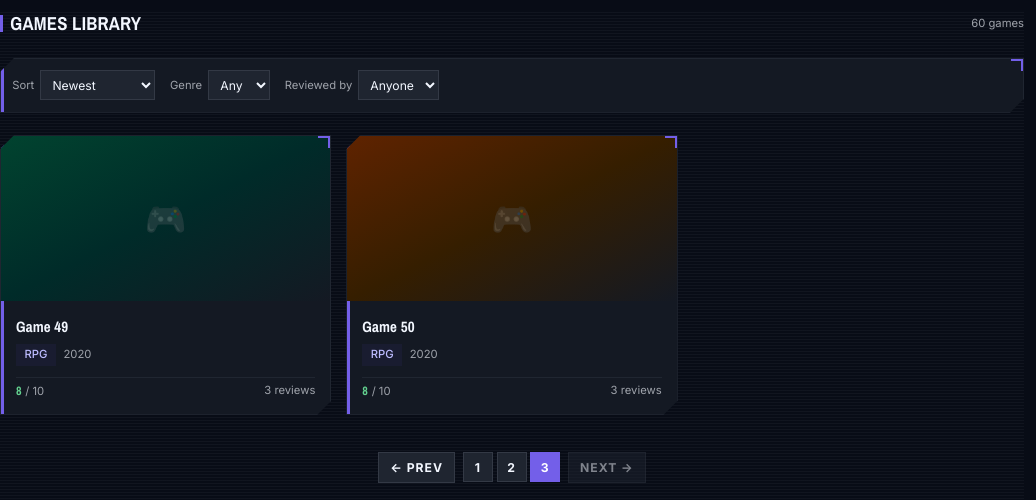
the games library page › returns to page one when a filter changes
Expected: the heading "Game 49" is shown, [16,316,68,337]
Select "RPG" in the dropdown labelled "Genre". click: [239, 85]
box: [208,70,270,100]
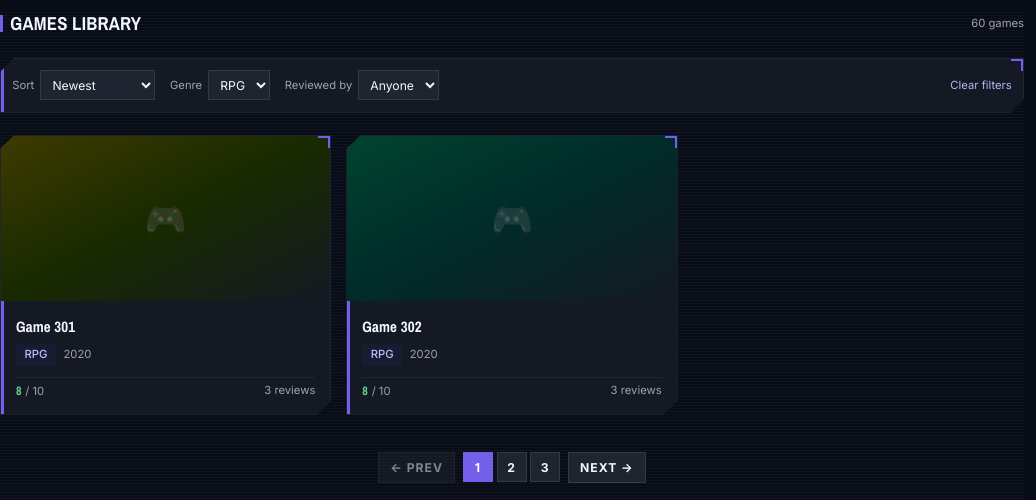
Result: the heading "Game 301" is shown at [16,316,75,337]
